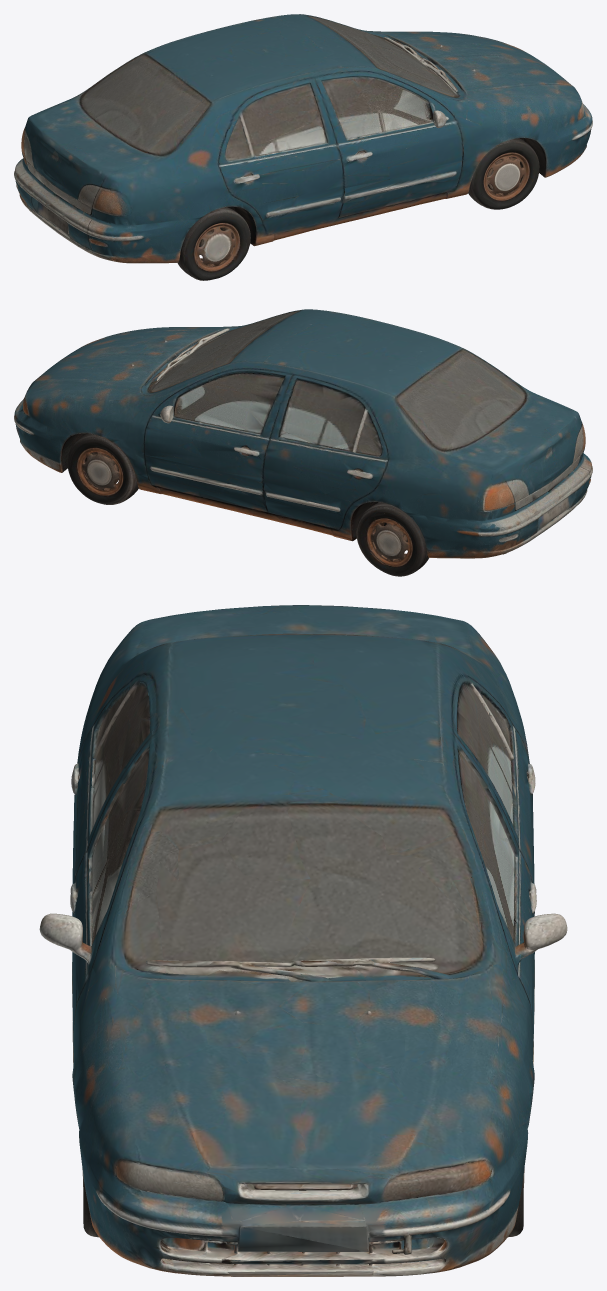
Rendered from barao-abandonado__01a16c1c.glb.
The picture shows the model from 3 angles, top to bottom: view 1: azimuth 30°, elevation 25°; view 2: azimuth 150°, elevation 25°; view 3: azimuth 270°, elevation 25°; orthographic projection. The views are drawn at different scales.
Parts seen in each view (by area): view 1: barao-abandonado; view 2: barao-abandonado; view 3: barao-abandonado.
Part boxes in pixels (box(x1,y1,x2,y2)): barao-abandonado: box(14, 14, 592, 280); barao-abandonado: box(14, 309, 592, 576); barao-abandonado: box(39, 605, 567, 1276).
Size of the model in its own units: 4.39 by 1.38 by 1.95.
1 material, 1 textured.
